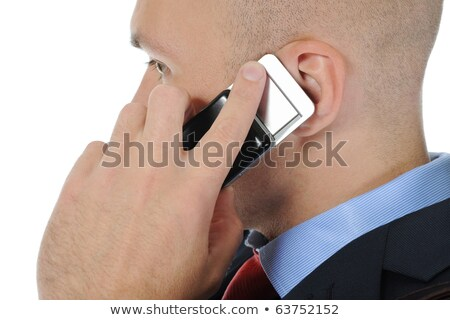phone: (165, 51, 316, 190)
